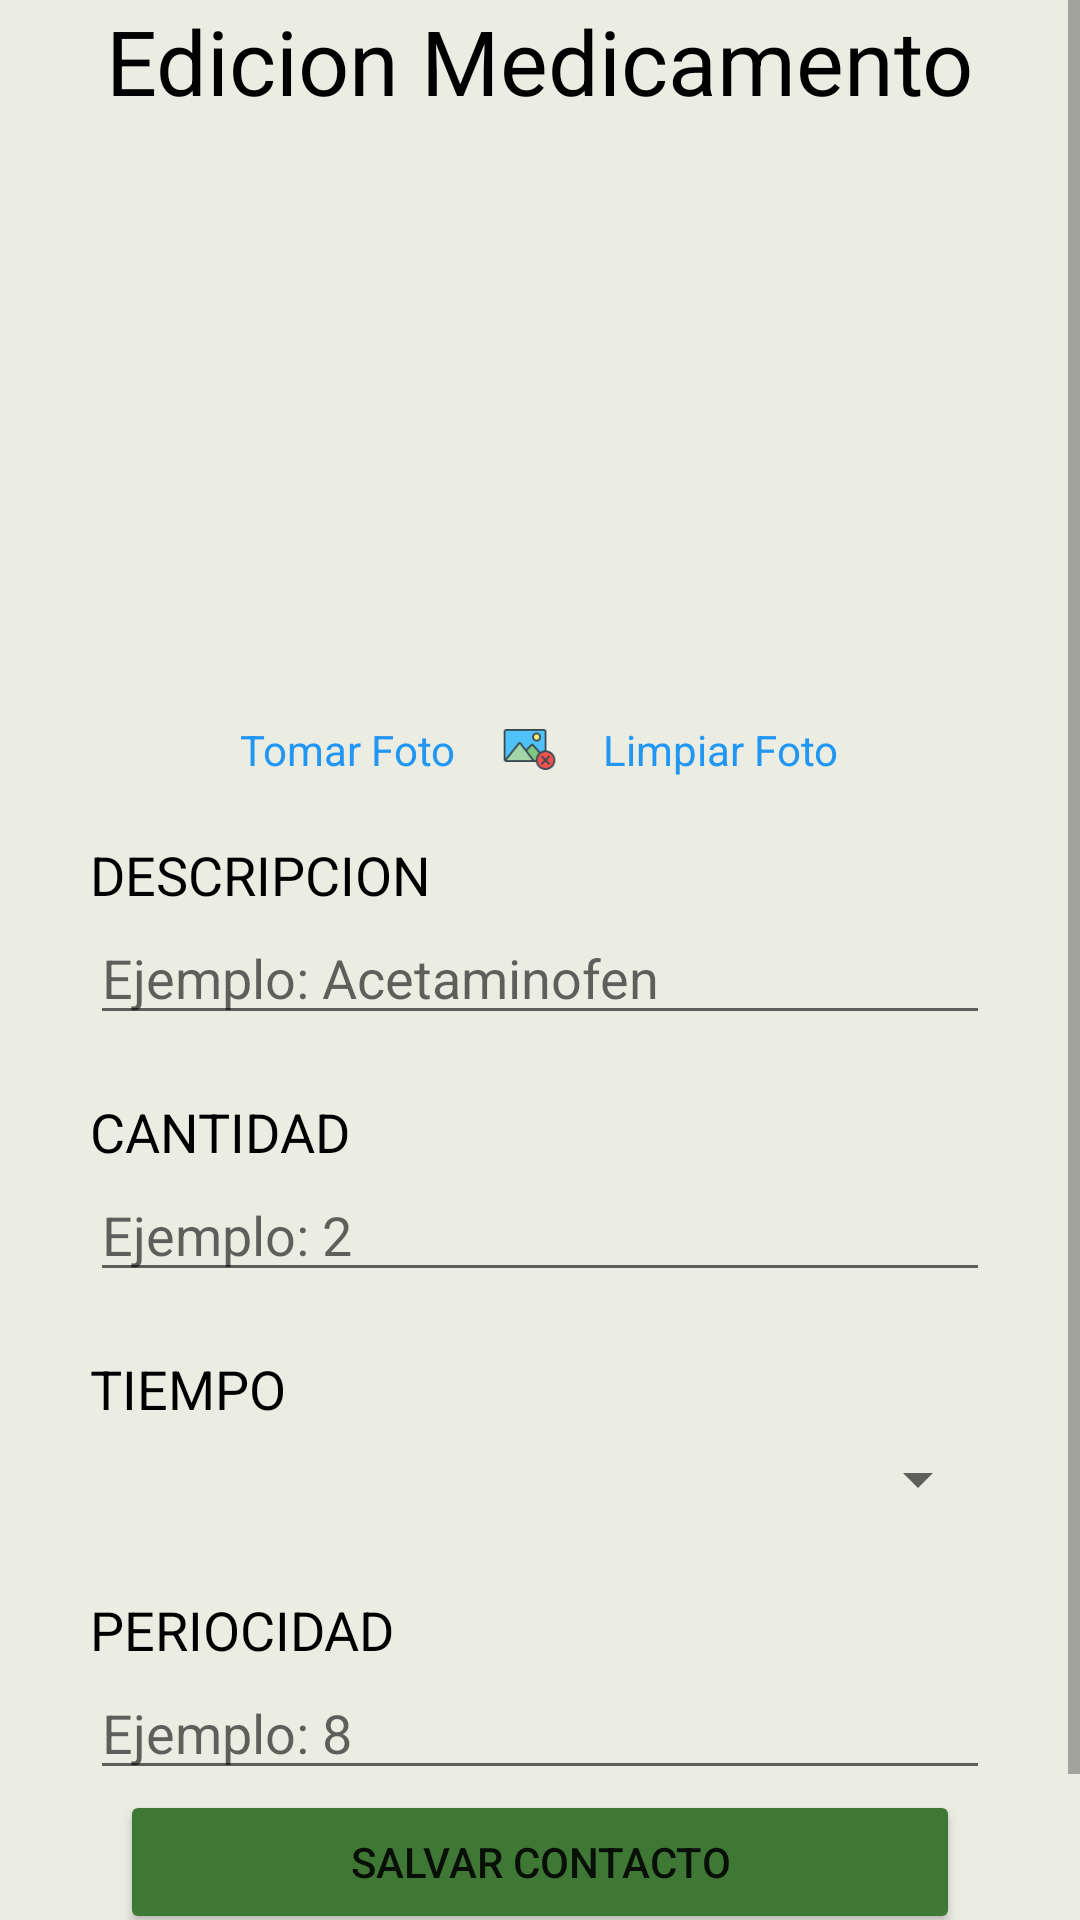

Icons on this 1080*1920 Android screen, each with its box as bbox(x1, y1, x2, y2):
hafallado: bbox(503, 729, 556, 770)
